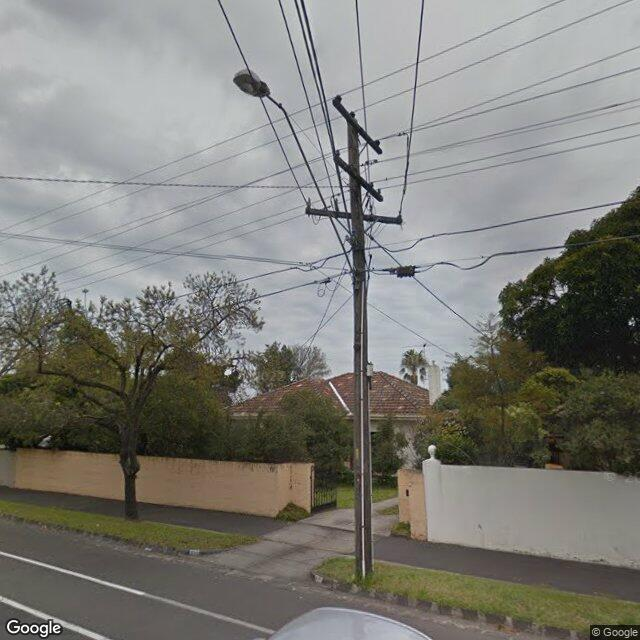HV-transmission: (335, 96, 380, 146)
crossarm: (332, 98, 382, 154), (333, 156, 383, 202), (305, 207, 403, 225)
streetlight: (234, 70, 358, 289)
timber-pole: (347, 118, 373, 579)
